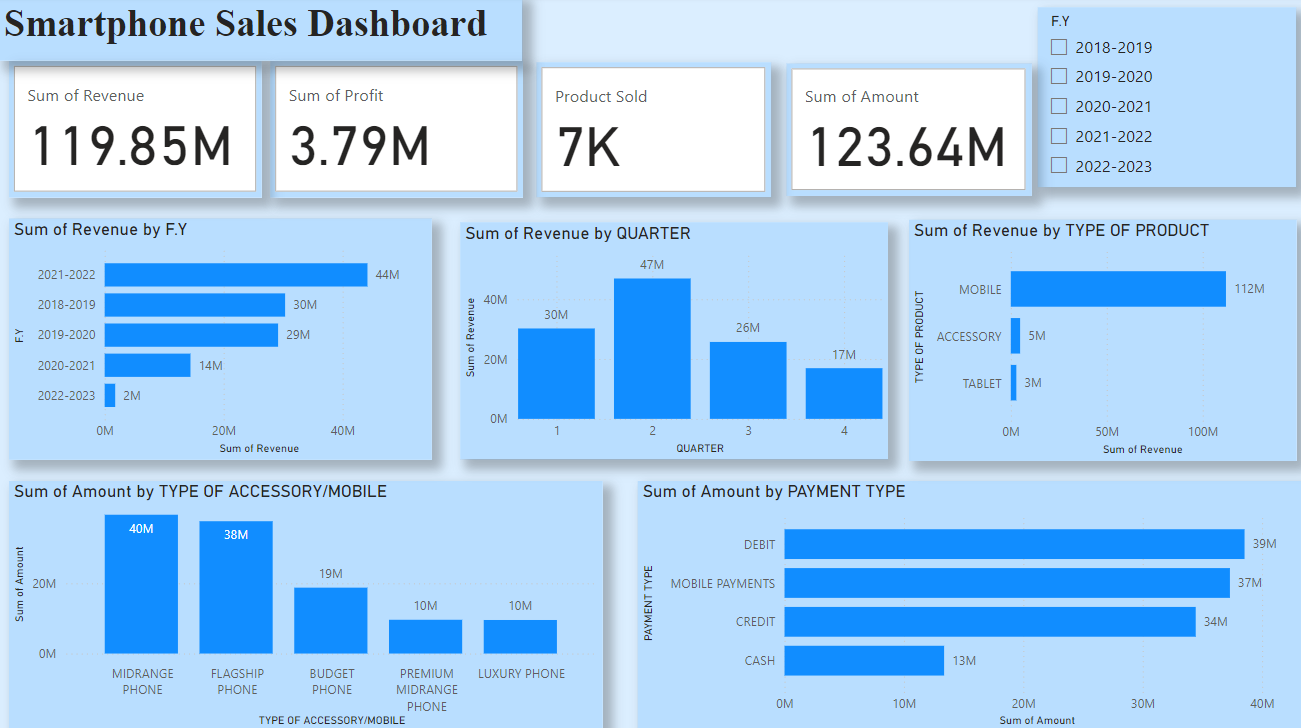

What the dashboard file says about the page in this screenshot:
{"tool":"powerbi","page":{"name":"Page 1","canvas":[1280,720],"ordinal":0},"visuals":[{"type":"cardVisual","fields":{"Data":["Sum(SMARTPHONE RETAIL OUTLET SALE DATA.Revenue)"]},"box":[9.8,63.6,247,133.3],"z":0},{"type":"cardVisual","fields":{"Data":["Sum(SMARTPHONE RETAIL OUTLET SALE DATA.Profit)"]},"box":[265.4,63.6,247,133.3],"z":1000},{"type":"cardVisual","fields":{"Data":["SMARTPHONE RETAIL OUTLET SALE DATA.Product Sold"]},"box":[525.8,64.8,229.9,132.1],"z":2000},{"type":"cardVisual","fields":{"Data":["Sum(SMARTPHONE RETAIL OUTLET SALE DATA.Amount)"]},"box":[770.4,66,239.7,129.6],"z":3000},{"type":"slicer","fields":{"Values":["SMARTPHONE RETAIL OUTLET SALE DATA.F.Y"]},"box":[1016.2,11,253.1,176.1],"z":4000},{"type":"clusteredBarChart","fields":{"Y":["Sum(SMARTPHONE RETAIL OUTLET SALE DATA.Revenue)"],"Category":["SMARTPHONE RETAIL OUTLET SALE DATA.F.Y"]},"box":[9.8,217.7,413.3,236],"z":5000},{"type":"clusteredColumnChart","fields":{"Category":["SMARTPHONE RETAIL OUTLET SALE DATA.QUARTER"],"Y":["Sum(SMARTPHONE RETAIL OUTLET SALE DATA.Revenue)"]},"box":[451.2,221.3,418.2,232.3],"z":6000},{"type":"clusteredBarChart","fields":{"Category":["SMARTPHONE RETAIL OUTLET SALE DATA.TYPE OF PRODUCT"],"Y":["Sum(SMARTPHONE RETAIL OUTLET SALE DATA.Revenue)"]},"box":[890.2,218.9,379.1,236],"z":7000},{"type":"columnChart","fields":{"Category":["SMARTPHONE RETAIL OUTLET SALE DATA.TYPE OF ACCESSORY/MOBILE"],"Y":["Sum(SMARTPHONE RETAIL OUTLET SALE DATA.Amount)"]},"box":[9.8,474.5,580.8,245.8],"z":8000},{"type":"clusteredBarChart","fields":{"Category":["SMARTPHONE RETAIL OUTLET SALE DATA.PAYMENT TYPE"],"Y":["Sum(SMARTPHONE RETAIL OUTLET SALE DATA.Amount)"]},"box":[624.9,474.5,655.4,245.8],"z":9000},{"type":"textbox","box":[0,0,512.4,63.6],"z":10000}]}

Visuals, with their boxes in screenshot pixels (x1, y1, x2, y2), scaled from the page's 1280x720 canvas onto the 1301x728 screenshot:
cardVisual - Sum(SMARTPHONE RETAIL OUTLET SALE DATA.Revenue): rect(10, 64, 261, 199)
cardVisual - Sum(SMARTPHONE RETAIL OUTLET SALE DATA.Profit): rect(270, 64, 521, 199)
cardVisual - SMARTPHONE RETAIL OUTLET SALE DATA.Product Sold: rect(534, 66, 768, 199)
cardVisual - Sum(SMARTPHONE RETAIL OUTLET SALE DATA.Amount): rect(783, 67, 1027, 198)
slicer - SMARTPHONE RETAIL OUTLET SALE DATA.F.Y: rect(1033, 11, 1290, 189)
clusteredBarChart - Sum(SMARTPHONE RETAIL OUTLET SALE DATA.Revenue) x SMARTPHONE RETAIL OUTLET SALE DATA.F.Y: rect(10, 220, 430, 459)
clusteredColumnChart - SMARTPHONE RETAIL OUTLET SALE DATA.QUARTER x Sum(SMARTPHONE RETAIL OUTLET SALE DATA.Revenue): rect(459, 224, 884, 459)
clusteredBarChart - SMARTPHONE RETAIL OUTLET SALE DATA.TYPE OF PRODUCT x Sum(SMARTPHONE RETAIL OUTLET SALE DATA.Revenue): rect(905, 221, 1290, 460)
columnChart - SMARTPHONE RETAIL OUTLET SALE DATA.TYPE OF ACCESSORY/MOBILE x Sum(SMARTPHONE RETAIL OUTLET SALE DATA.Amount): rect(10, 480, 600, 727)
clusteredBarChart - SMARTPHONE RETAIL OUTLET SALE DATA.PAYMENT TYPE x Sum(SMARTPHONE RETAIL OUTLET SALE DATA.Amount): rect(635, 480, 1300, 727)
textbox: rect(0, 0, 521, 64)
